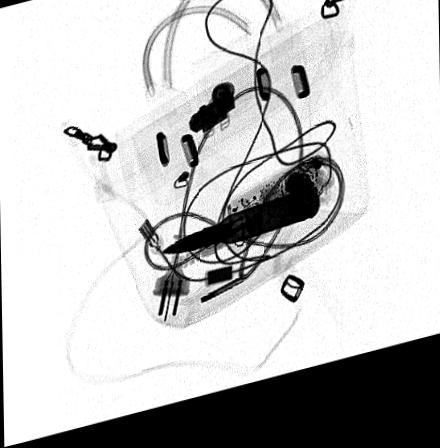Bullet: (155, 200, 320, 265)
